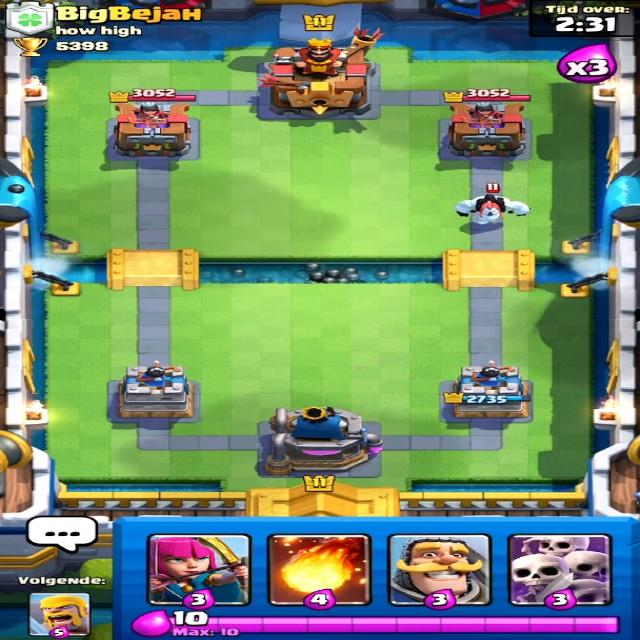Enemy_Ice_Golem_Troop: (442, 194, 532, 233)
Fireball_Card: (269, 534, 372, 605)
